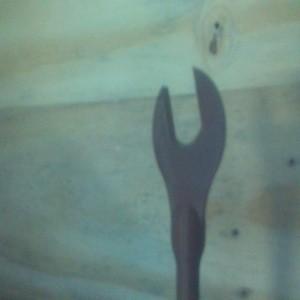spanner: (151, 64, 228, 300)
